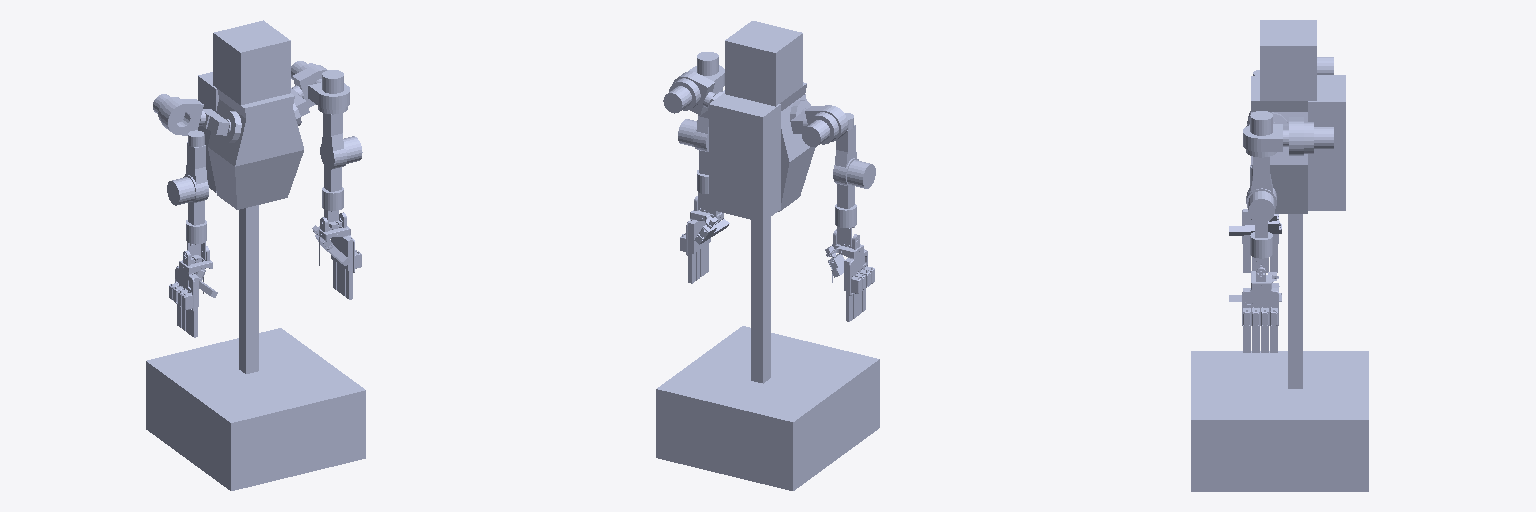
URDF robot description (BLUE):
<?xml version="1.0" encoding="utf-8"?>
<!-- This URDF was automatically created by SolidWorks to URDF Exporter! Originally created by [author] ([email redacted]) 
     Commit Version: 1.6.0-4-g7f85cfe  Build Version: 1.6.7995.38578
     For more information, please see http://wiki.ros.org/sw_urdf_exporter -->
<robot
  name="BLUE">
  <link
    name="base_link">
    <inertial>
      <origin
        xyz="0.00550122439007879 0.361117558733355 -0.248413597272353"
        rpy="0 0 0" />
      <mass
        value="60.5446057850671" />
      <inertia
        ixx="10.5312321334904"
        ixy="6.36986936358641E-16"
        ixz="-1.68777225146106E-18"
        iyy="1.56582724672752"
        iyz="0.446413725724438"
        izz="10.3513310388195" />
    </inertial>
    <visual>
      <origin
        xyz="0 0 0"
        rpy="0 0 0" />
      <geometry>
        <mesh
          filename="package://BLUE/meshes/visual/base_link.STL" />
      </geometry>
      <material
        name="">
        <color
          rgba="0.792156862745098 0.819607843137255 0.933333333333333 1" />
      </material>
    </visual>
    <collision>
      <origin
        xyz="0 0 0"
        rpy="0 0 0" />
      <geometry>
        <mesh
          filename="package://BLUE/meshes/visual/base_link.STL" />
      </geometry>
    </collision>
  </link>
  <link
    name="L_shoulder_link1">
    <inertial>
      <origin
        xyz="0.0736110113498467 0.0685513754686807 0.117883172407885"
        rpy="0 0 0" />
      <mass
        value="0.811013751751007" />
      <inertia
        ixx="0.00217478390455272"
        ixy="-0.000519612950766095"
        ixz="-0.00089354331173872"
        iyy="0.00282404285801994"
        iyz="-0.000643307697703333"
        izz="0.00209188607690892" />
    </inertial>
    <visual>
      <origin
        xyz="0 0 0"
        rpy="0 0 0" />
      <geometry>
        <mesh
          filename="package://BLUE/meshes/visual/L_shoulder_link1.STL" />
      </geometry>
      <material
        name="">
        <color
          rgba="0.792156862745098 0.819607843137255 0.933333333333333 1" />
      </material>
    </visual>
    <collision>
      <origin
        xyz="0 0 0"
        rpy="0 0 0" />
      <geometry>
        <mesh
          filename="package://BLUE/meshes/visual/L_shoulder_link1.STL" />
      </geometry>
    </collision>
  </link>
  <joint
    name="L_shoulder_joint1"
    type="revolute">
    <origin
      xyz="0.062883 0.2144 0.98214"
      rpy="1.8342 0 1.5708" />
    <parent
      link="base_link" />
    <child
      link="L_shoulder_link1" />
    <axis
      xyz="0 0.5027 0.86446" />
    <limit
      lower="-3.1416"
      upper="1.57"
      effort="5.0001"
      velocity="5.0001" />
  </joint>
  <link
    name="L_shoulder_link2">
    <inertial>
      <origin
        xyz="0 0.00585079303821545 0.0138521640497377"
        rpy="0 0 0" />
      <mass
        value="0.612989243191461" />
      <inertia
        ixx="0.00106391078498058"
        ixy="-4.25941777354891E-21"
        ixz="-2.39098122816703E-20"
        iyy="0.00102744832981917"
        iyz="-4.92703804144297E-05"
        izz="0.000647299686364757" />
    </inertial>
    <visual>
      <origin
        xyz="0 0 0"
        rpy="0 0 0" />
      <geometry>
        <mesh
          filename="package://BLUE/meshes/visual/L_shoulder_link2.STL" />
      </geometry>
      <material
        name="">
        <color
          rgba="0.792156862745098 0.819607843137255 0.933333333333333 1" />
      </material>
    </visual>
    <collision>
      <origin
        xyz="0 0 0"
        rpy="0 0 0" />
      <geometry>
        <mesh
          filename="package://BLUE/meshes/visual/L_shoulder_link2.STL" />
      </geometry>
    </collision>
  </link>
  <joint
    name="L_shoulder_joint2"
    type="revolute">
    <origin
      xyz="0 0.083134 0.14296"
      rpy="-1.5708 -1.3074 1.5708" />
    <parent
      link="L_shoulder_link1" />
    <child
      link="L_shoulder_link2" />
    <axis
      xyz="0 0 1" />
    <limit
      lower="-1.3962"
      upper="3.1416"
      effort="5.0001"
      velocity="5.0001" />
  </joint>
  <link
    name="L_elbow_link">
    <inertial>
      <origin
        xyz="1.11022302462516E-16 0.020390011842345 0.123668105746574"
        rpy="0 0 0" />
      <mass
        value="0.522775894413382" />
      <inertia
        ixx="0.00192489371044905"
        ixy="-4.73757247380882E-19"
        ixz="-1.58373330530562E-18"
        iyy="0.00175124843182908"
        iyz="-0.000424759242212045"
        izz="0.000463470184007488" />
    </inertial>
    <visual>
      <origin
        xyz="0 0 0"
        rpy="0 0 0" />
      <geometry>
        <mesh
          filename="package://BLUE/meshes/visual/L_elbow_link.STL" />
      </geometry>
      <material
        name="">
        <color
          rgba="0.792156862745098 0.819607843137255 0.933333333333333 1" />
      </material>
    </visual>
    <collision>
      <origin
        xyz="0 0 0"
        rpy="0 0 0" />
      <geometry>
        <mesh
          filename="package://BLUE/meshes/visual/L_elbow_link.STL" />
      </geometry>
    </collision>
  </link>
  <joint
    name="L_elbow_joint"
    type="revolute">
    <origin
      xyz="0 -0.0142 0.02759"
      rpy="1.5708 1.5708 0" />
    <parent
      link="L_shoulder_link2" />
    <child
      link="L_elbow_link" />
    <axis
      xyz="0 0 1" />
    <limit
      lower="-1.047"
      upper="1.047"
      effort="5.0001"
      velocity="5.0001" />
  </joint>
  <link
    name="L_arm_link">
    <inertial>
      <origin
        xyz="0.00271015009927048 -8.32667268468867E-17 -0.0771028379974753"
        rpy="0 0 0" />
      <mass
        value="0.311974708289017" />
      <inertia
        ixx="0.00110353076812533"
        ixy="-5.04902518752735E-20"
        ixz="-6.27849038826473E-05"
        iyy="0.00107485242431158"
        iyz="-7.88256396922964E-19"
        izz="0.000125549388262804" />
    </inertial>
    <visual>
      <origin
        xyz="0 0 0"
        rpy="0 0 0" />
      <geometry>
        <mesh
          filename="package://BLUE/meshes/visual/L_arm_link.STL" />
      </geometry>
      <material
        name="">
        <color
          rgba="0.792156862745098 0.819607843137255 0.933333333333333 1" />
      </material>
    </visual>
    <collision>
      <origin
        xyz="0 0 0"
        rpy="0 0 0" />
      <geometry>
        <mesh
          filename="package://BLUE/meshes/visual/L_arm_link.STL" />
      </geometry>
    </collision>
  </link>
  <joint
    name="L_arm_joint"
    type="revolute">
    <origin
      xyz="0 0 0.16339"
      rpy="3.1416 0 -1.5708" />
    <parent
      link="L_elbow_link" />
    <child
      link="L_arm_link" />
    <axis
      xyz="1 0 0" />
    <limit
      lower="-0.0001"
      upper="2.2689"
      effort="5.0001"
      velocity="5.0001" />
  </joint>
  <link
    name="L_wrist_link1">
    <inertial>
      <origin
        xyz="-0.0275004928082172 -0.00106573200130969 0.00187479269765956"
        rpy="0 0 0" />
      <mass
        value="0.0321429447444106" />
      <inertia
        ixx="8.19606568665795E-06"
        ixy="-1.35260667748773E-07"
        ixz="5.46525181014097E-07"
        iyy="2.09880750831732E-05"
        iyz="-6.27898822181364E-08"
        izz="2.42734589974536E-05" />
    </inertial>
    <visual>
      <origin
        xyz="0 0 0"
        rpy="0 0 0" />
      <geometry>
        <mesh
          filename="package://BLUE/meshes/visual/L_wrist_link1.STL" />
      </geometry>
      <material
        name="">
        <color
          rgba="0.792156862745098 0.819607843137255 0.933333333333333 1" />
      </material>
    </visual>
    <collision>
      <origin
        xyz="0 0 0"
        rpy="0 0 0" />
      <geometry>
        <mesh
          filename="package://BLUE/meshes/visual/L_wrist_link1.STL" />
      </geometry>
    </collision>
  </link>
  <joint
    name="L_wrist_joint1"
    type="revolute">
    <origin
      xyz="0.0001 0 -0.152"
      rpy="1.5708 -1.5708 0" />
    <parent
      link="L_arm_link" />
    <child
      link="L_wrist_link1" />
    <axis
      xyz="1 0 0" />
    <limit
      lower="-1.57"
      upper="1.57"
      effort="5.0001"
      velocity="5.0001" />
  </joint>
  <link
    name="L_wrist_link2">
    <inertial>
      <origin
        xyz="0.00052151659628899 -0.0225478730637583 0.100977355163405"
        rpy="0 0 0" />
      <mass
        value="0.507527117769163" />
      <inertia
        ixx="0.0011870586112963"
        ixy="1.97074395988597E-05"
        ixz="-4.47399527188383E-05"
        iyy="0.00142152845641496"
        iyz="0.000132494097306461"
        izz="0.000553390862454794" />
    </inertial>
    <visual>
      <origin
        xyz="0 0 0"
        rpy="0 0 0" />
      <geometry>
        <mesh
          filename="package://BLUE/meshes/visual/L_wrist_link2.STL" />
      </geometry>
      <material
        name="">
        <color
          rgba="0.792156862745098 0.819607843137255 0.933333333333333 1" />
      </material>
    </visual>
    <collision>
      <origin
        xyz="0 0 0"
        rpy="0 0 0" />
      <geometry>
        <mesh
          filename="package://BLUE/meshes/visual/L_wrist_link2.STL" />
      </geometry>
    </collision>
  </link>
  <joint
    name="L_wrist_joint2"
    type="revolute">
    <origin
      xyz="-0.047 0 -0.00125"
      rpy="3.1416 1.5708 0" />
    <parent
      link="L_wrist_link1" />
    <child
      link="L_wrist_link2" />
    <axis
      xyz="0 1 0" />
    <limit
      lower="-1.57"
      upper="1.57"
      effort="5.0001"
      velocity="5.0001" />
  </joint>
  <link
    name="L_end_link">
    <inertial>
      <origin
        xyz="2.77555756156289E-17 0.000500000000000056 0"
        rpy="0 0 0" />
      <mass
        value="1E-06" />
      <inertia
        ixx="1.66666666666667E-13"
        ixy="3.36580652893855E-30"
        ixz="-8.71721875928897E-30"
        iyy="1.66666666666667E-13"
        iyz="2.61338172621182E-42"
        izz="1.66666666666667E-13" />
    </inertial>
    <visual>
      <origin
        xyz="0 0 0"
        rpy="0 0 0" />
      <geometry>
        <mesh
          filename="package://BLUE/meshes/visual/L_end_link.STL" />
      </geometry>
      <material
        name="">
        <color
          rgba="0.792156862745098 0.819607843137255 0.933333333333333 1" />
      </material>
    </visual>
    <collision>
      <origin
        xyz="0 0 0"
        rpy="0 0 0" />
      <geometry>
        <mesh
          filename="package://BLUE/meshes/visual/L_end_link.STL" />
      </geometry>
    </collision>
  </link>
  <joint
    name="L_end_joint"
    type="revolute">
    <origin
      xyz="-0.01825 0.03282 0.13981"
      rpy="-1.5708 0 -1.5708" />
    <parent
      link="L_wrist_link2" />
    <child
      link="L_end_link" />
    <axis
      xyz="0 1 0" />
    <limit
      lower="-0.0001"
      upper="0.0001"
      effort="5.0001"
      velocity="5.0001" />
  </joint>
  <link
    name="R_shoulder_link1">
    <inertial>
      <origin
        xyz="0.0736110113498466 -0.0502839443076785 0.0864699042965031"
        rpy="0 0 0" />
      <mass
        value="0.811013751751007" />
      <inertia
        ixx="0.00217478390455273"
        ixy="0.0005196129507661"
        ixz="-0.000893543311738718"
        iyy="0.00282404285801994"
        iyz="0.000643307697703338"
        izz="0.00209188607690893" />
    </inertial>
    <visual>
      <origin
        xyz="0 0 0"
        rpy="0 0 0" />
      <geometry>
        <mesh
          filename="package://BLUE/meshes/visual/R_shoulder_link1.STL" />
      </geometry>
      <material
        name="">
        <color
          rgba="0.792156862745098 0.819607843137255 0.933333333333333 1" />
      </material>
    </visual>
    <collision>
      <origin
        xyz="0 0 0"
        rpy="0 0 0" />
      <geometry>
        <mesh
          filename="package://BLUE/meshes/visual/R_shoulder_link1.STL" />
      </geometry>
    </collision>
  </link>
  <joint
    name="R_shoulder_joint1"
    type="revolute">
    <origin
      xyz="-0.086966 0.2144 0.9916"
      rpy="-1.8342 0 1.5708" />
    <parent
      link="base_link" />
    <child
      link="R_shoulder_link1" />
    <axis
      xyz="0 0.5027 -0.86446" />
    <limit
      lower="-3.1416"
      upper="1.57"
      effort="5.0001"
      velocity="5.0001" />
  </joint>
  <link
    name="R_shoulder_link2">
    <inertial>
      <origin
        xyz="0 0.00585079303821523 0.0138521640497378"
        rpy="0 0 0" />
      <mass
        value="0.612989243191461" />
      <inertia
        ixx="0.00106391078498058"
        ixy="3.49461483211439E-20"
        ixz="-1.13003388716397E-20"
        iyy="0.00102744832981917"
        iyz="-4.92703804144297E-05"
        izz="0.000647299686364757" />
    </inertial>
    <visual>
      <origin
        xyz="0 0 0"
        rpy="0 0 0" />
      <geometry>
        <mesh
          filename="package://BLUE/meshes/visual/R_shoulder_link2.STL" />
      </geometry>
      <material
        name="">
        <color
          rgba="0.792156862745098 0.819607843137255 0.933333333333333 1" />
      </material>
    </visual>
    <collision>
      <origin
        xyz="0 0 0"
        rpy="0 0 0" />
      <geometry>
        <mesh
          filename="package://BLUE/meshes/visual/R_shoulder_link2.STL" />
      </geometry>
    </collision>
  </link>
  <joint
    name="R_shoulder_joint2"
    type="revolute">
    <origin
      xyz="0 -0.064867 0.11155"
      rpy="-1.5708 1.3074 1.5708" />
    <parent
      link="R_shoulder_link1" />
    <child
      link="R_shoulder_link2" />
    <axis
      xyz="0 0 1" />
    <limit
      lower="-3.1416"
      upper="1.3962"
      effort="5.0001"
      velocity="5.0001" />
  </joint>
  <link
    name="R_elbow_link">
    <inertial>
      <origin
        xyz="8.32667268468867E-17 0.020390011842345 0.123668105746574"
        rpy="0 0 0" />
      <mass
        value="0.522775894413382" />
      <inertia
        ixx="0.00192489371044905"
        ixy="-2.43553867443735E-19"
        ixz="-7.65602647517935E-19"
        iyy="0.00175124843182908"
        iyz="-0.000424759242212045"
        izz="0.000463470184007489" />
    </inertial>
    <visual>
      <origin
        xyz="0 0 0"
        rpy="0 0 0" />
      <geometry>
        <mesh
          filename="package://BLUE/meshes/visual/R_elbow_link.STL" />
      </geometry>
      <material
        name="">
        <color
          rgba="0.792156862745098 0.819607843137255 0.933333333333333 1" />
      </material>
    </visual>
    <collision>
      <origin
        xyz="0 0 0"
        rpy="0 0 0" />
      <geometry>
        <mesh
          filename="package://BLUE/meshes/visual/R_elbow_link.STL" />
      </geometry>
    </collision>
  </link>
  <joint
    name="R_elbow_joint"
    type="revolute">
    <origin
      xyz="0 -0.0142 0.02759"
      rpy="1.5708 -1.5708 0" />
    <parent
      link="R_shoulder_link2" />
    <child
      link="R_elbow_link" />
    <axis
      xyz="0 0 1" />
    <limit
      lower="-1.047"
      upper="1.047"
      effort="5.0001"
      velocity="5.0001" />
  </joint>
  <link
    name="R_arm_link">
    <inertial>
      <origin
        xyz="0.00271015009927048 -2.77555756156289E-17 -0.0771028379974753"
        rpy="0 0 0" />
      <mass
        value="0.311974708289017" />
      <inertia
        ixx="0.00110353076812533"
        ixy="-1.86738366111187E-20"
        ixz="-6.27849038826475E-05"
        iyy="0.00107485242431158"
        iyz="-3.14231648109736E-19"
        izz="0.000125549388262804" />
    </inertial>
    <visual>
      <origin
        xyz="0 0 0"
        rpy="0 0 0" />
      <geometry>
        <mesh
          filename="package://BLUE/meshes/visual/R_arm_link.STL" />
      </geometry>
      <material
        name="">
        <color
          rgba="0.792156862745098 0.819607843137255 0.933333333333333 1" />
      </material>
    </visual>
    <collision>
      <origin
        xyz="0 0 0"
        rpy="0 0 0" />
      <geometry>
        <mesh
          filename="package://BLUE/meshes/visual/R_arm_link.STL" />
      </geometry>
    </collision>
  </link>
  <joint
    name="R_arm_joint"
    type="revolute">
    <origin
      xyz="0 0 0.16339"
      rpy="3.1416 0 -1.5708" />
    <parent
      link="R_elbow_link" />
    <child
      link="R_arm_link" />
    <axis
      xyz="1 0 0" />
    <limit
      lower="-2.2689"
      upper="0.0001"
      effort="5.0001"
      velocity="5.0001" />
  </joint>
  <link
    name="R_wrist_link1">
    <inertial>
      <origin
        xyz="-0.0275004928082171 0.00106573200130974 0.00187479269765956"
        rpy="0 0 0" />
      <mass
        value="0.0321429447444105" />
      <inertia
        ixx="8.19606568665793E-06"
        ixy="1.3526066774876E-07"
        ixz="5.46525181014062E-07"
        iyy="2.09880750831731E-05"
        iyz="6.27898822181328E-08"
        izz="2.42734589974535E-05" />
    </inertial>
    <visual>
      <origin
        xyz="0 0 0"
        rpy="0 0 0" />
      <geometry>
        <mesh
          filename="package://BLUE/meshes/visual/R_wrist_link1.STL" />
      </geometry>
      <material
        name="">
        <color
          rgba="0.792156862745098 0.819607843137255 0.933333333333333 1" />
      </material>
    </visual>
    <collision>
      <origin
        xyz="0 0 0"
        rpy="0 0 0" />
      <geometry>
        <mesh
          filename="package://BLUE/meshes/visual/R_wrist_link1.STL" />
      </geometry>
    </collision>
  </link>
  <joint
    name="R_wrist_joint1"
    type="revolute">
    <origin
      xyz="0.0001 0 -0.152"
      rpy="-1.5708 -1.5708 0" />
    <parent
      link="R_arm_link" />
    <child
      link="R_wrist_link1" />
    <axis
      xyz="1 0 0" />
    <limit
      lower="-1.57"
      upper="1.57"
      effort="5.0001"
      velocity="5.0001" />
  </joint>
  <link
    name="R_wrist_link2">
    <inertial>
      <origin
        xyz="0.000516773021193795 0.0225399002291509 0.100966493090358"
        rpy="0 0 0" />
      <mass
        value="0.507605249539778" />
      <inertia
        ixx="0.00118784656019014"
        ixy="-1.98512800808314E-05"
        ixz="-4.49357241435364E-05"
        iyy="0.00142211904084859"
        iyz="-0.000132870016809989"
        izz="0.000553745769370559" />
    </inertial>
    <visual>
      <origin
        xyz="0 0 0"
        rpy="0 0 0" />
      <geometry>
        <mesh
          filename="package://BLUE/meshes/visual/R_wrist_link2.STL" />
      </geometry>
      <material
        name="">
        <color
          rgba="0.792156862745098 0.819607843137255 0.933333333333333 1" />
      </material>
    </visual>
    <collision>
      <origin
        xyz="0 0 0"
        rpy="0 0 0" />
      <geometry>
        <mesh
          filename="package://BLUE/meshes/visual/R_wrist_link2.STL" />
      </geometry>
    </collision>
  </link>
  <joint
    name="R_wrist_joint2"
    type="revolute">
    <origin
      xyz="-0.047 0 -0.00125"
      rpy="3.1416 1.5708 0" />
    <parent
      link="R_wrist_link1" />
    <child
      link="R_wrist_link2" />
    <axis
      xyz="0 1 0" />
    <limit
      lower="-1.57"
      upper="1.57"
      effort="5.0001"
      velocity="5.0001" />
  </joint>
  <link
    name="R_end_link">
    <inertial>
      <origin
        xyz="-2.77555756156289E-17 0.000499999999999945 0"
        rpy="0 0 0" />
      <mass
        value="1E-06" />
      <inertia
        ixx="1.66666666666667E-13"
        ixy="3.36580652894737E-30"
        ixz="-8.71721875928897E-30"
        iyy="1.66666666666667E-13"
        iyz="-2.61338172621182E-42"
        izz="1.66666666666667E-13" />
    </inertial>
    <visual>
      <origin
        xyz="0 0 0"
        rpy="0 0 0" />
      <geometry>
        <mesh
          filename="package://BLUE/meshes/visual/R_end_link.STL" />
      </geometry>
      <material
        name="">
        <color
          rgba="0.792156862745098 0.819607843137255 0.933333333333333 1" />
      </material>
    </visual>
    <collision>
      <origin
        xyz="0 0 0"
        rpy="0 0 0" />
      <geometry>
        <mesh
          filename="package://BLUE/meshes/visual/R_end_link.STL" />
      </geometry>
    </collision>
  </link>
  <joint
    name="R_end_joint"
    type="revolute">
    <origin
      xyz="-0.01825 -0.03282 0.13981"
      rpy="-1.5708 0 -1.5708" />
    <parent
      link="R_wrist_link2" />
    <child
      link="R_end_link" />
    <axis
      xyz="0 1 0" />
    <limit
      lower="-0.0001"
      upper="0.0001"
      effort="5.0001"
      velocity="5.0001" />
  </joint>
</robot>

--- What the picture shows (computed from the rendered views, not written in the file) ---
The picture shows the robot from 3 angles, left to right: view 1: azimuth 30°, elevation 25°; view 2: azimuth 150°, elevation 25°; view 3: azimuth 270°, elevation 25°; orthographic projection.
Model BLUE with 15 links and 14 joints (14 revolute), rooted at base_link, posed all joints at 0.
Visible links, largest first — view 1: base_link, R_wrist_link2, L_wrist_link2, R_shoulder_link1, R_elbow_link, L_shoulder_link2, L_arm_link, L_elbow_link, L_shoulder_link1, R_arm_link; view 2: base_link, R_wrist_link2, L_wrist_link2, R_shoulder_link1, L_shoulder_link1, R_elbow_link, R_arm_link, L_shoulder_link2, L_elbow_link, L_arm_link; view 3: base_link, L_wrist_link2, L_shoulder_link2, L_elbow_link, L_shoulder_link1, R_wrist_link2, L_arm_link.
Link boxes in pixels (x1,y1,x2,y2): base_link: (146,20,365,490); R_wrist_link2: (169,246,217,337); L_wrist_link2: (312,212,361,299); R_shoulder_link1: (153,94,230,135); R_elbow_link: (167,130,207,205); L_shoulder_link2: (308,70,349,114); L_arm_link: (320,142,343,210); L_elbow_link: (322,113,362,167); L_shoulder_link1: (291,61,327,116); R_arm_link: (186,182,208,243); base_link: (656,21,879,490); R_wrist_link2: (825,229,874,321); L_wrist_link2: (680,196,729,283); R_shoulder_link1: (790,105,848,146); L_shoulder_link1: (663,71,724,115); R_elbow_link: (835,113,875,188); R_arm_link: (833,165,856,227); L_shoulder_link2: (689,52,724,93); L_elbow_link: (678,110,708,150); L_arm_link: (697,132,708,193); base_link: (1191,20,1368,491); L_wrist_link2: (1229,261,1281,352); L_shoulder_link2: (1243,111,1288,157); L_elbow_link: (1246,157,1276,222); L_shoulder_link1: (1273,117,1333,155); R_wrist_link2: (1229,209,1281,272); L_arm_link: (1246,188,1276,258).
Bounding box of the posed robot: 0.5809 × 0.47 × 1.23 m (x, y, z).
13 mesh visuals loaded from 15 distinct referenced files (13 binary STL); not drawn: 2 (reference not matched to a file when rendering).